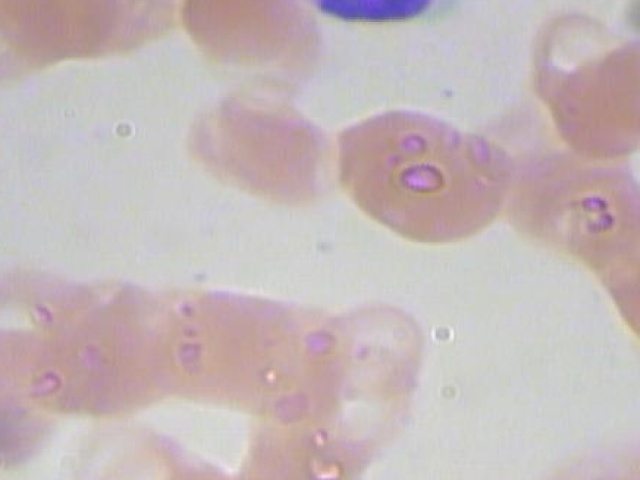RBC: (316, 94, 513, 246), (176, 76, 344, 213), (19, 290, 187, 426), (131, 277, 300, 407), (496, 132, 627, 251), (520, 50, 640, 170), (170, 0, 338, 83), (313, 292, 428, 407), (307, 361, 422, 475), (211, 410, 372, 480), (549, 154, 640, 273), (47, 415, 203, 480), (0, 314, 74, 451), (0, 0, 131, 66), (578, 180, 640, 299), (581, 26, 640, 145), (528, 424, 640, 480), (597, 218, 640, 347), (136, 449, 281, 480)
WBC: (274, 0, 483, 30)
